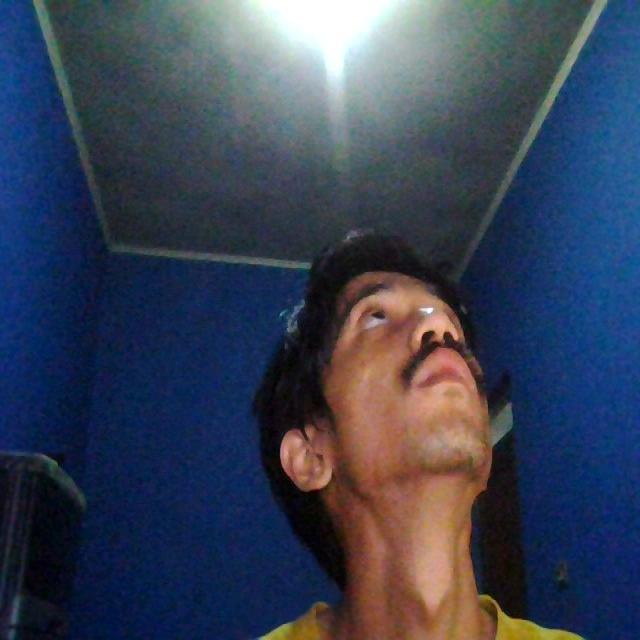Melihat keatas: (222, 193, 542, 550)
